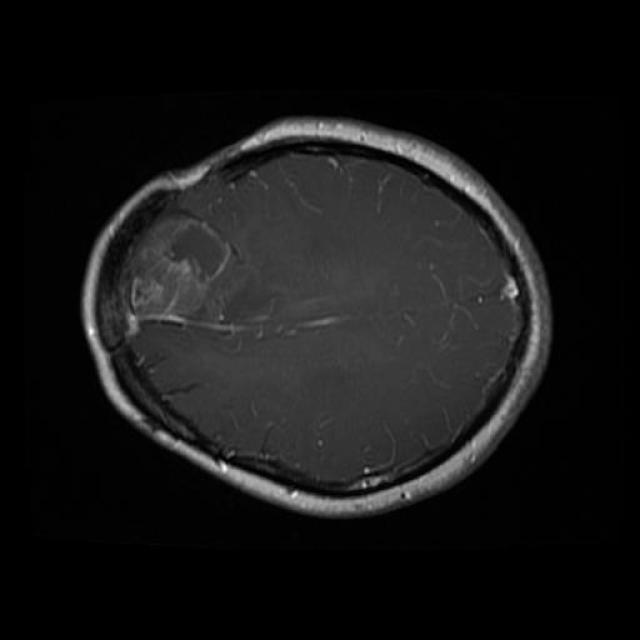Glioma: (110, 211, 232, 337)
